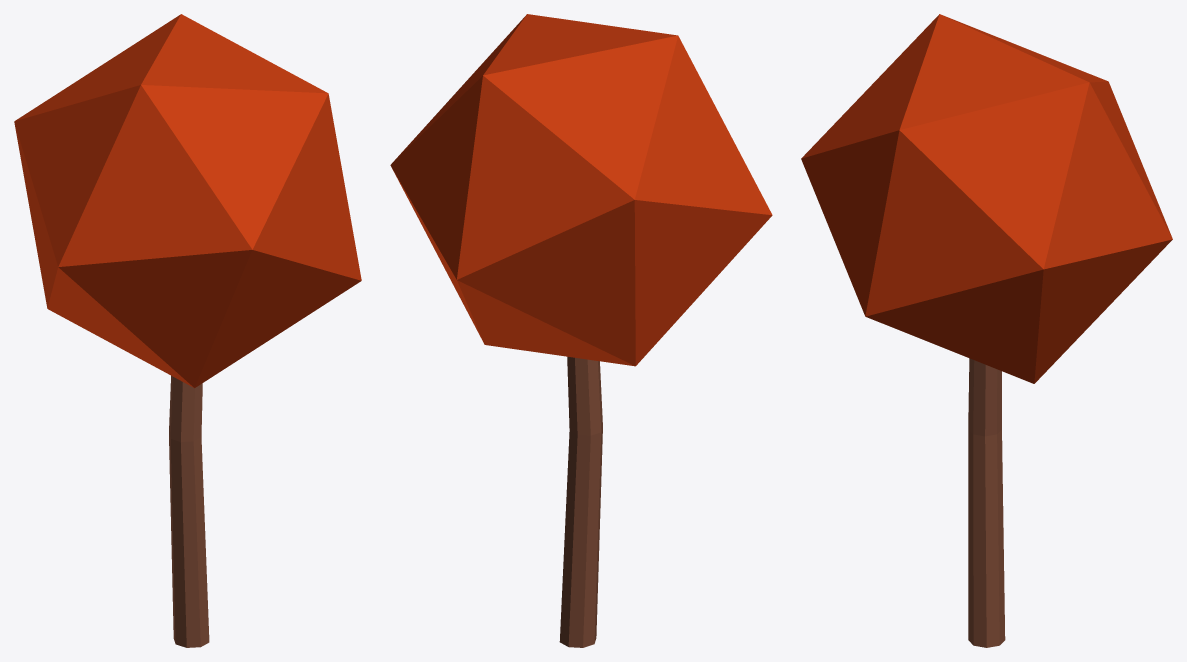
File: Tree_40_summer_red_mat.fbx
3 views of the same model, side by side, from view 1: azimuth 30°, elevation 25°; view 2: azimuth 150°, elevation 25°; view 3: azimuth 270°, elevation 25° (orthographic). The views are drawn at different scales.
Visible parts, largest first — view 1: Tree_40_summer_red_mat; view 2: Tree_40_summer_red_mat; view 3: Tree_40_summer_red_mat.
Part boxes in pixels (left/top/right/bottom): Tree_40_summer_red_mat: left=14, top=14, right=361, bottom=647; Tree_40_summer_red_mat: left=390, top=14, right=772, bottom=647; Tree_40_summer_red_mat: left=801, top=14, right=1172, bottom=647.
Size of the model in its own units: 110 by 196 by 112.
